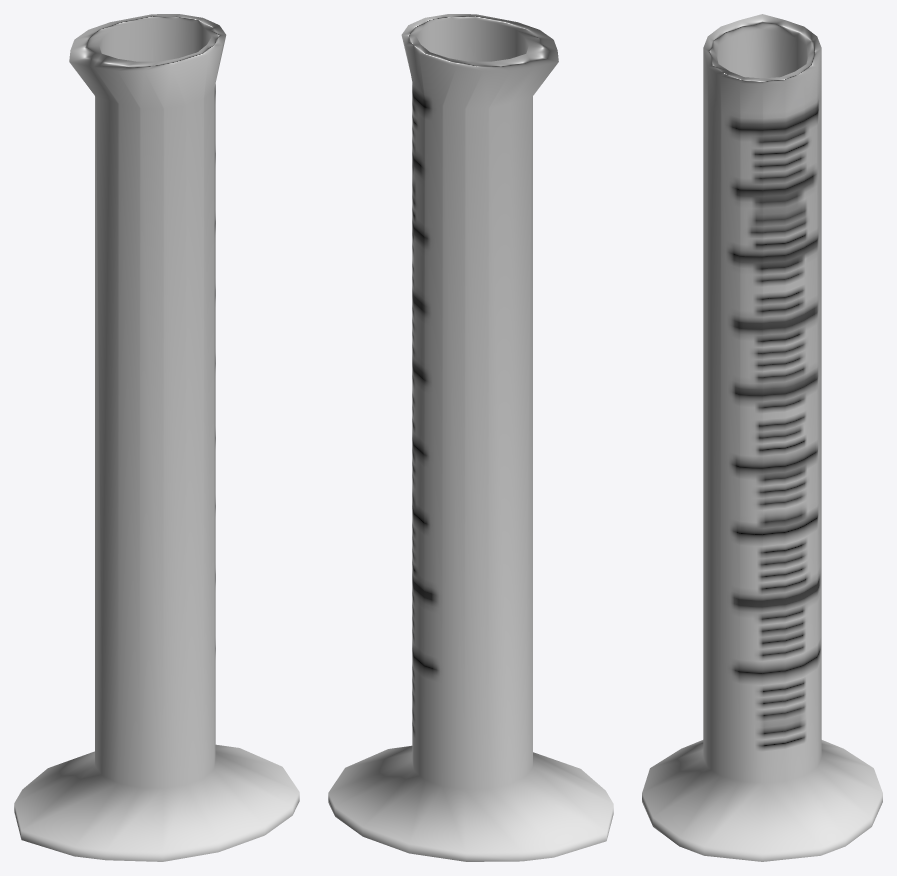
Rendered from LabDesk_Object_GraduatedCylinderFill.fbx.
3 views of the same model, side by side, from view 1: azimuth 30°, elevation 25°; view 2: azimuth 150°, elevation 25°; view 3: azimuth 270°, elevation 25° (orthographic). The views are drawn at different scales.
Parts seen in each view (by area): view 1: LabDesk_Object_GraduatedCylinderfill; view 2: LabDesk_Object_GraduatedCylinderfill; view 3: LabDesk_Object_GraduatedCylinderfill.
Boxes of the visible parts, bbox=[...] form: LabDesk_Object_GraduatedCylinderfill: bbox=[14, 14, 299, 861]; LabDesk_Object_GraduatedCylinderfill: bbox=[328, 14, 613, 861]; LabDesk_Object_GraduatedCylinderfill: bbox=[642, 14, 882, 861].
Bounding box in the file's own units: 4.93 × 13.83 × 4.04.
Materials: 2 (2 with a texture image).
